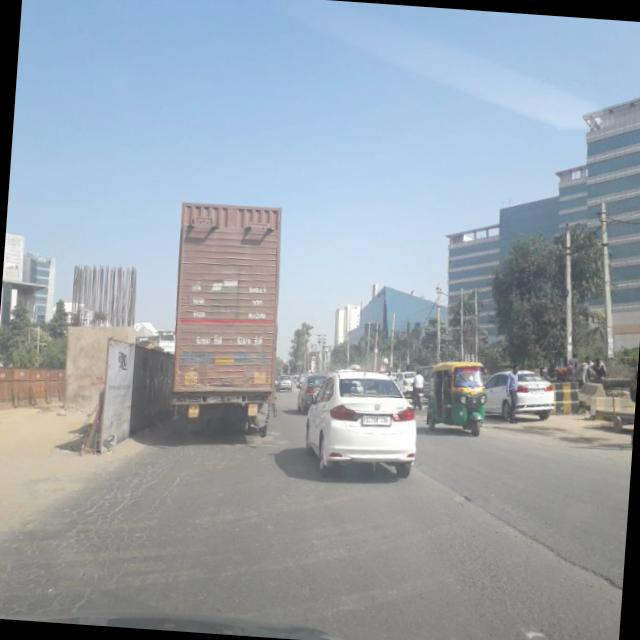crack: (0, 419, 210, 621)
